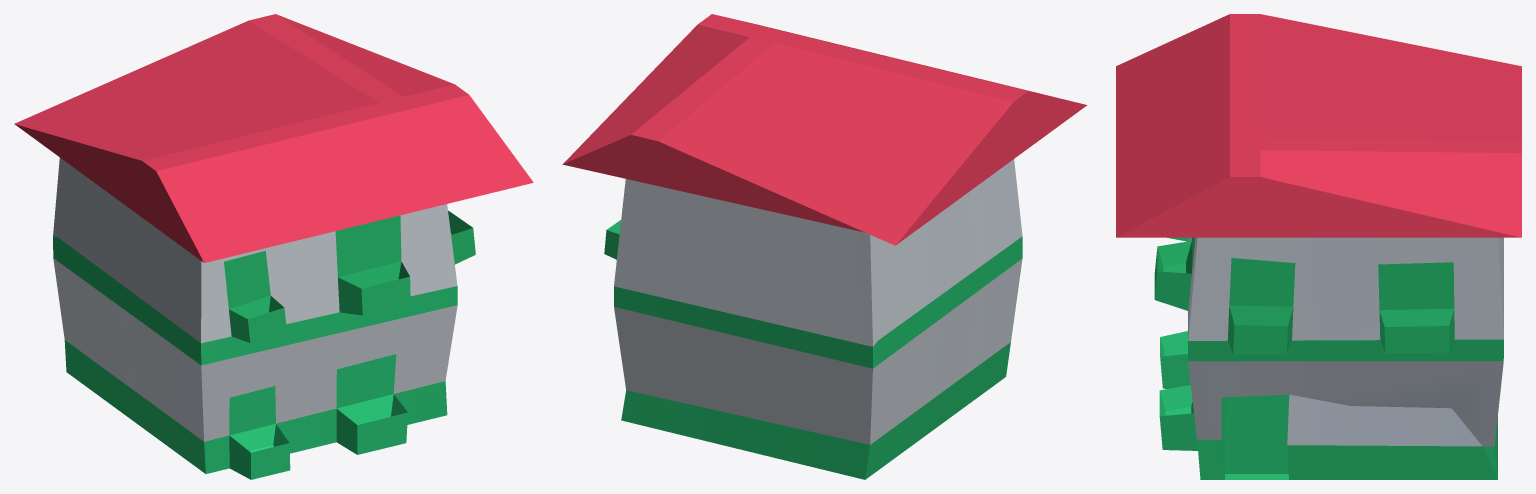
Rendered from casa_8.glb.
3 views of the same model, side by side, from view 1: azimuth 30°, elevation 25°; view 2: azimuth 150°, elevation 25°; view 3: azimuth 270°, elevation 25° (orthographic). The views are drawn at different scales.
Visible parts, largest first — view 1: Cube; view 2: Cube; view 3: Cube.
Boxes of the visible parts, x1,y1,x2,y2 form: Cube: [14, 14, 533, 479]; Cube: [562, 14, 1087, 479]; Cube: [1116, 14, 1521, 479].
Size of what is drawn, in the model's own units: 25.66 by 22.48 by 25.66.
1 material, 1 textured.
